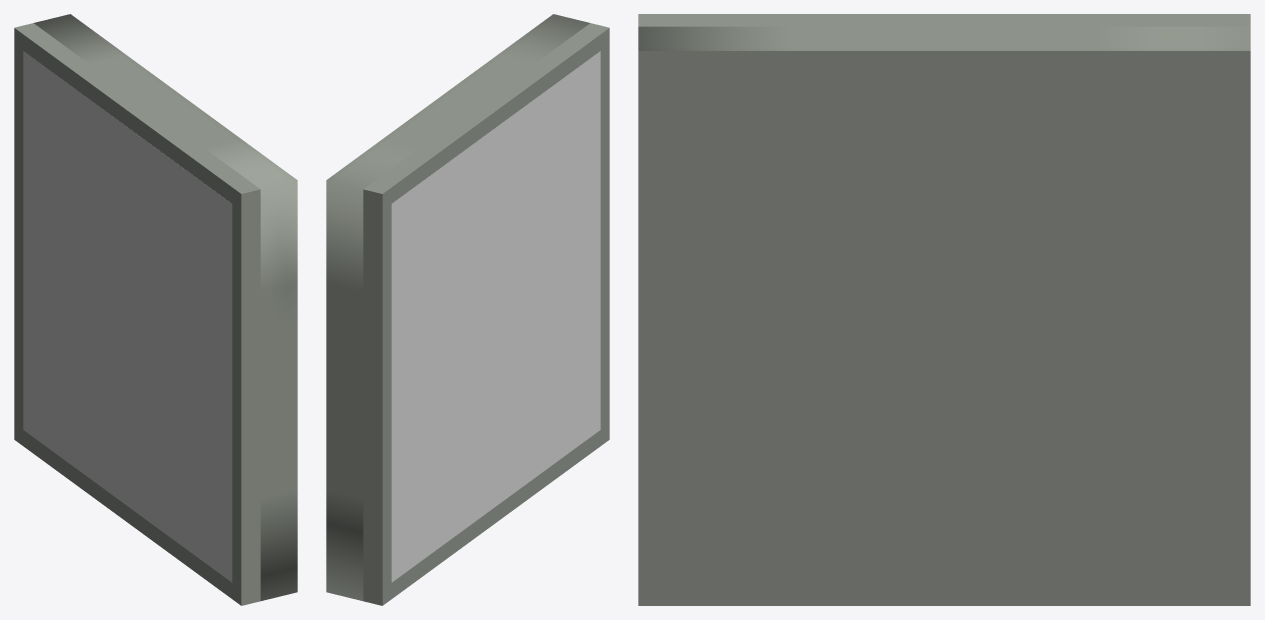
The model's file is gauge_synchroScope.fbx.
The picture shows the model from 3 angles, left to right: view 1: azimuth 30°, elevation 25°; view 2: azimuth 150°, elevation 25°; view 3: azimuth 270°, elevation 25°; orthographic projection. The views are drawn at different scales.
Visible parts, largest first — view 1: pressureGauge_glass003, gauge_synchropscope; view 2: pressureGauge_glass003, gauge_synchropscope; view 3: gauge_synchropscope.
Part boxes in pixels (x1,y1,x2,y2): pressureGauge_glass003: (23,51,232,582); gauge_synchropscope: (14,14,297,605); pressureGauge_glass003: (391,51,600,582); gauge_synchropscope: (326,14,609,605); gauge_synchropscope: (638,14,1250,605).
Size of the model in its own units: 1.89 by 13.2 by 13.2.
1 material, 1 textured.
